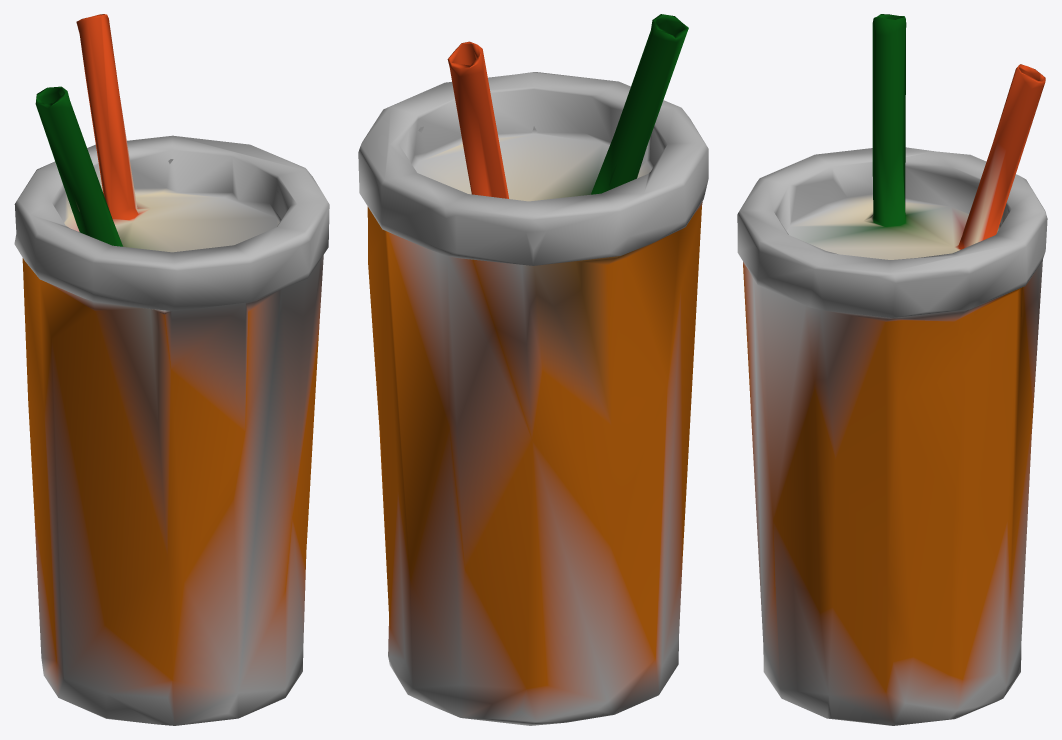
File: gen3d-juice-lod1.glb
The picture shows the model from 3 angles, left to right: view 1: azimuth 30°, elevation 25°; view 2: azimuth 150°, elevation 25°; view 3: azimuth 270°, elevation 25°; orthographic projection. The views are drawn at different scales.
Parts seen in each view (by area): view 1: part_0; view 2: part_0; view 3: part_0.
Part boxes in pixels (<box>): part_0: <box>14,14,329,725</box>; part_0: <box>358,14,708,725</box>; part_0: <box>737,14,1047,725</box>.
Bounding box in the file's own units: 0.467 × 0.9996 × 0.4674.
